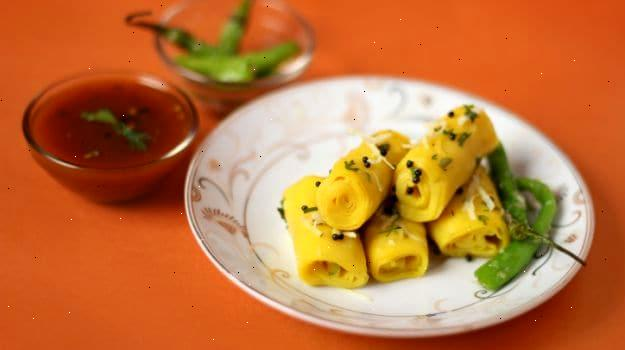khandvi: (291, 110, 530, 293)
